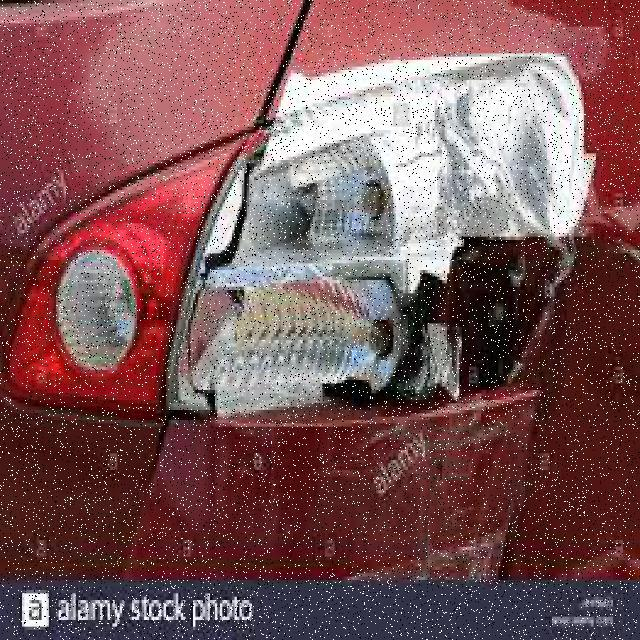Headlight-Damage: (179, 47, 599, 443)
